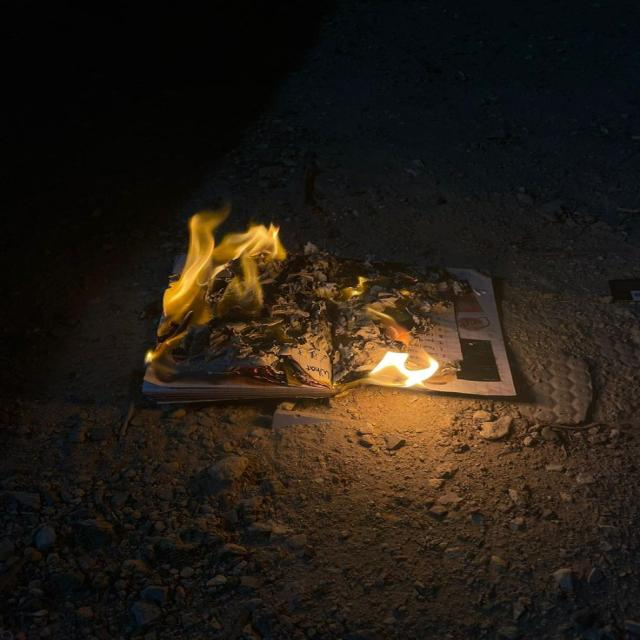fire: (162, 209, 285, 327), (371, 352, 440, 387)
